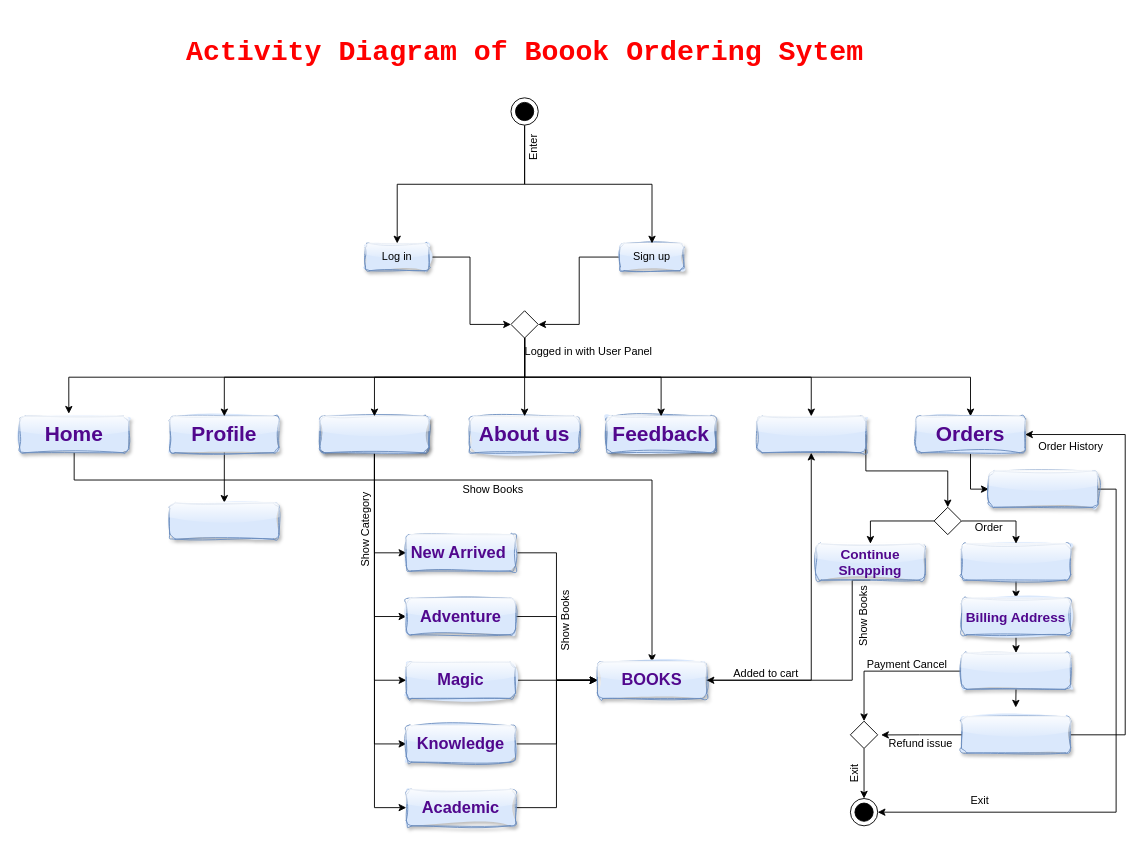
Some shapes in this 1148 by 848 pixel diagram are drawn without their labels. The shapes that lost their labels are listed below. From the top down, each one's centre as x and y in pixels, then its label:
At (x=375, y=435): "Product".
At (x=811, y=435): "Cart".
At (x=1043, y=490): "Print Recipt".
At (x=224, y=522): "Profile Information".
At (x=1016, y=562): "Process to Checkout".
At (x=1016, y=672): "Payment".
At (x=1016, y=735): "Continue Checkout".
